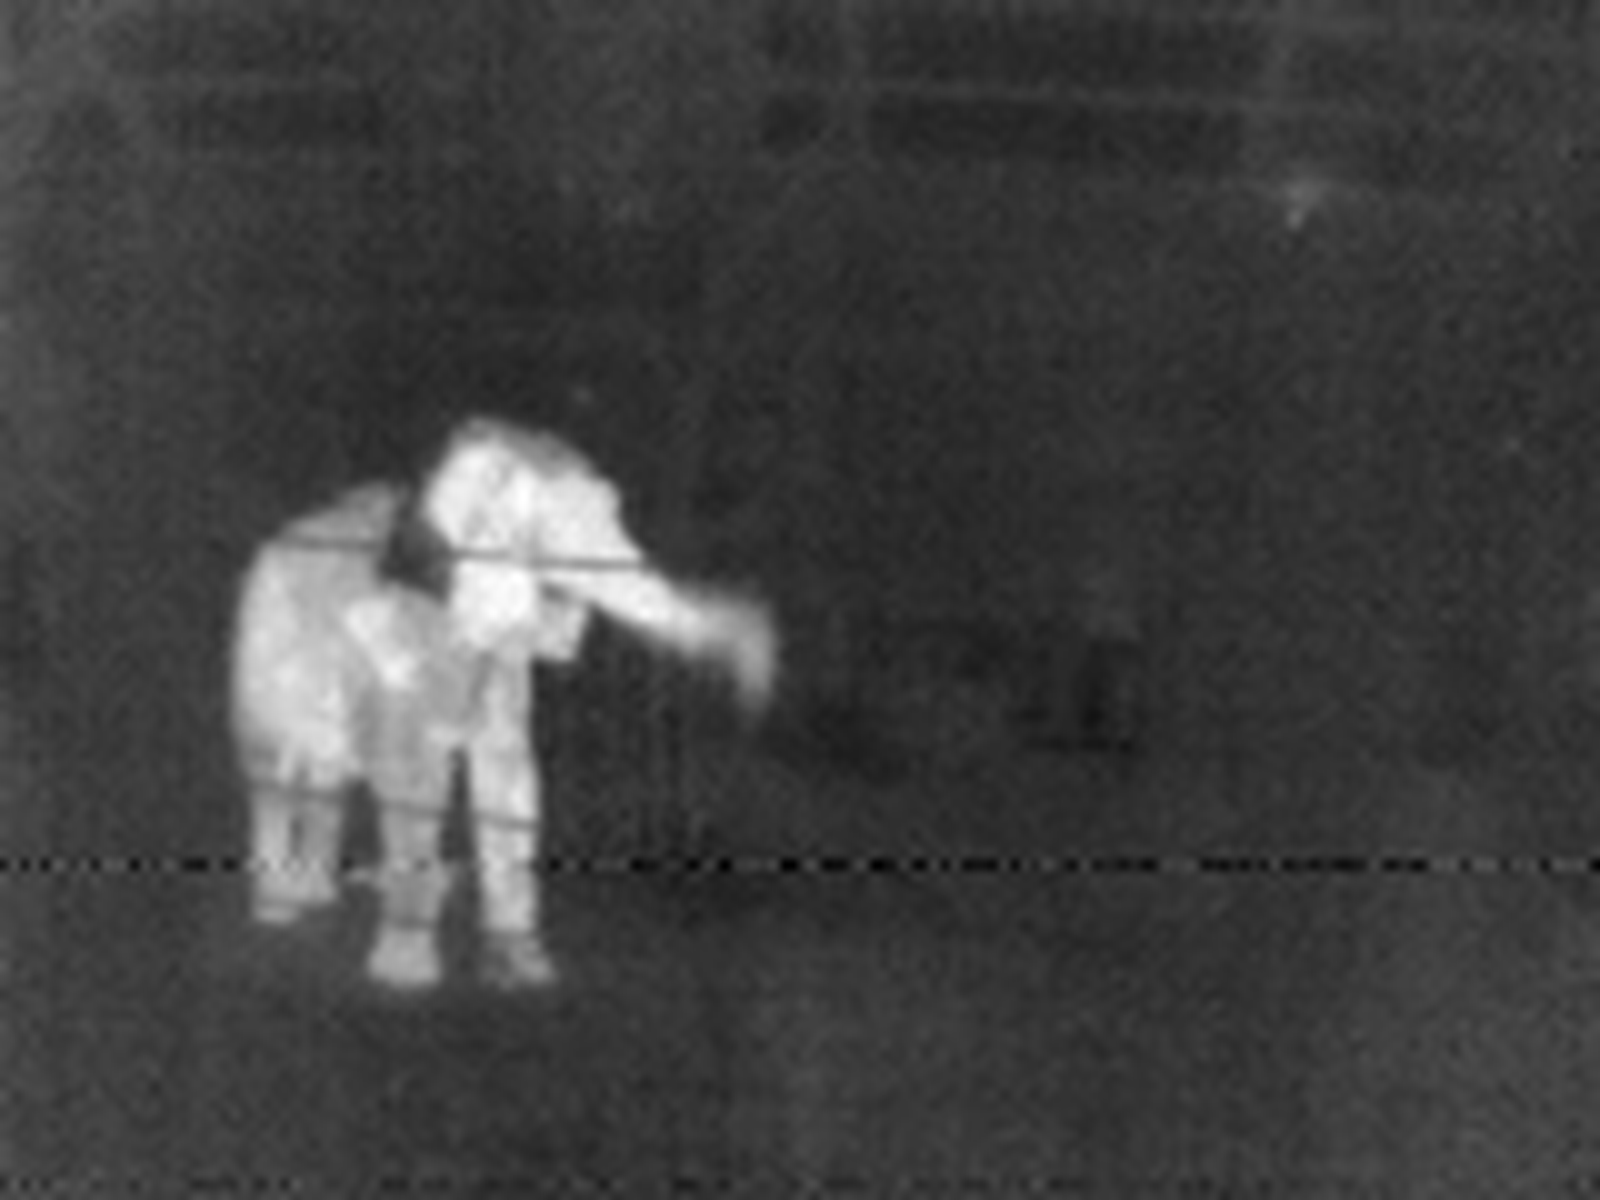elephant: (168, 425, 795, 1034)
